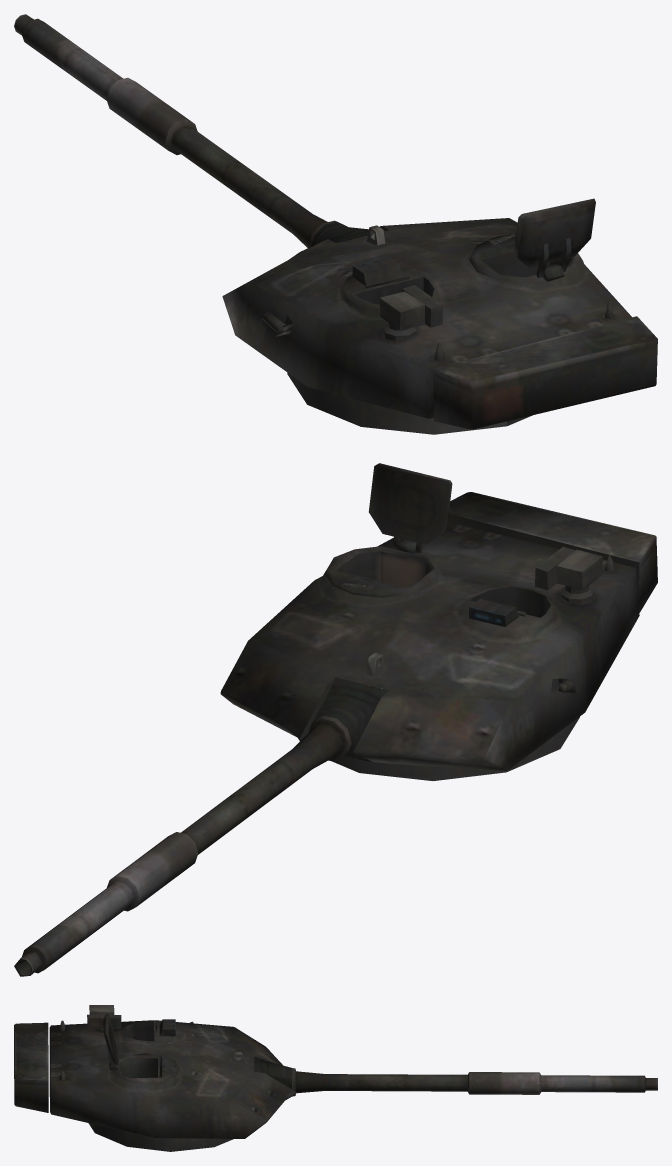
File: dam tank head.FBX
3 renders of one model, top to bottom at view 1: azimuth 30°, elevation 25°; view 2: azimuth 150°, elevation 25°; view 3: azimuth 270°, elevation 25°, orthographic. The views are drawn at different scales.
Visible parts, largest first — view 1: DrawCall_1086; view 2: DrawCall_1086; view 3: DrawCall_1086.
Boxes of the visible parts, box(x1,y1,x2,y2) form: DrawCall_1086: box(14, 14, 657, 434); DrawCall_1086: box(14, 463, 657, 976); DrawCall_1086: box(14, 1005, 657, 1151).
Size of the model in its own units: 14.5 by 9.06 by 46.73.
